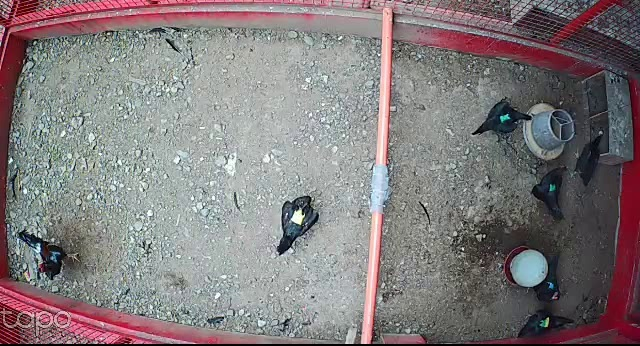Chicken: (272, 194, 321, 256), (470, 101, 535, 142), (532, 162, 567, 225), (566, 131, 604, 189), (513, 309, 577, 339), (527, 249, 561, 305)
Drinker: (502, 247, 548, 288)
Feeder: (524, 99, 576, 161)
Rooster: (17, 229, 83, 281)
Saddle_Color_Blue: (547, 280, 555, 288)
Saddle_Color_Yellow: (291, 209, 307, 226)
Saddle_Color_YellowGreen: (537, 315, 550, 327)
